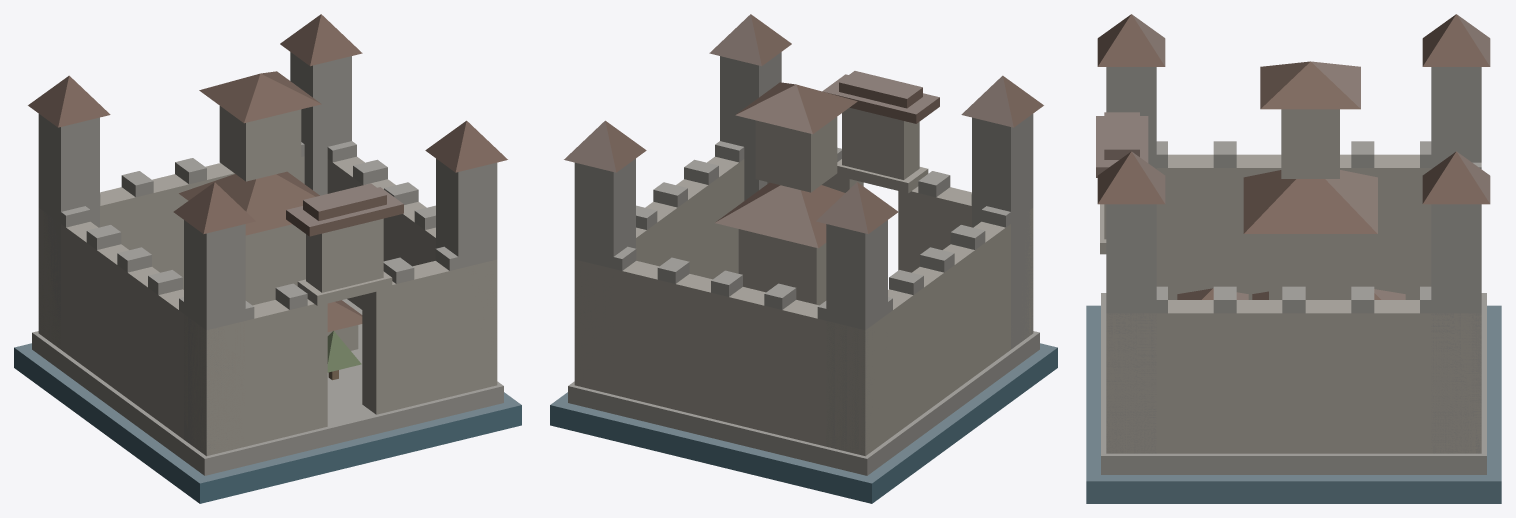
The model's file is commandery-grand.gltf.
3 renders of one model, left to right at view 1: azimuth 30°, elevation 25°; view 2: azimuth 150°, elevation 25°; view 3: azimuth 270°, elevation 25°, orthographic. The views are drawn at different scales.
Parts seen in each view (by area): view 1: building-commandery-grand; view 2: building-commandery-grand; view 3: building-commandery-grand.
Boxes of the visible parts, x1,y1,x2,y2 form: building-commandery-grand: [14, 14, 521, 503]; building-commandery-grand: [550, 14, 1057, 503]; building-commandery-grand: [1086, 14, 1501, 503].
Bounding box in the file's own units: 0.99 × 0.9338 × 0.99.
